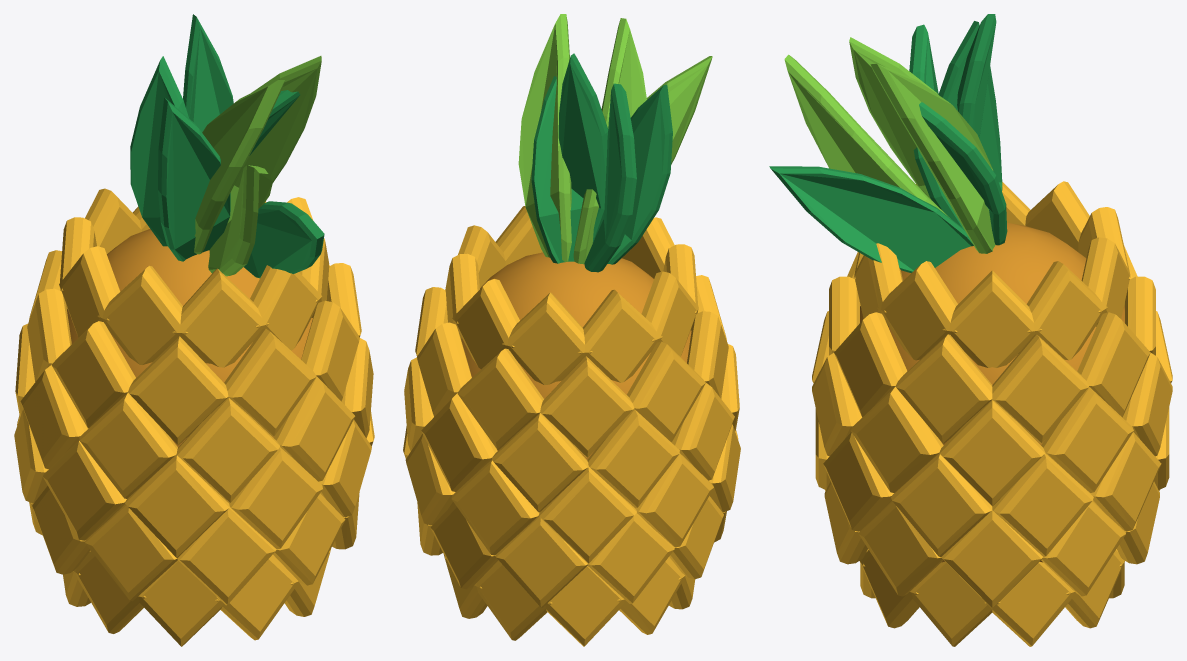
The model's file is pineapple.glb.
The picture shows the model from 3 angles, left to right: view 1: azimuth 30°, elevation 25°; view 2: azimuth 150°, elevation 25°; view 3: azimuth 270°, elevation 25°; orthographic projection. The views are drawn at different scales.
Parts seen in each view (by area): view 1: pineapple-pineapple, pineapple-leaf, pineapple-leafLight, pineapple-groove; view 2: pineapple-pineapple, pineapple-leaf, pineapple-leafLight, pineapple-groove; view 3: pineapple-pineapple, pineapple-leaf, pineapple-leafLight, pineapple-groove.
Boxes of the visible parts, x1,y1,x2,y2 form: pineapple-pineapple: (14,188,374,646); pineapple-leaf: (130,14,324,278); pineapple-leafLight: (194,56,321,276); pineapple-groove: (67,229,312,447); pineapple-pineapple: (403,206,740,646); pineapple-leaf: (531,53,672,272); pineapple-leafLight: (518,14,712,264); pineapple-groove: (461,252,691,459); pineapple-pineapple: (812,181,1172,646); pineapple-leaf: (769,14,1007,272); pineapple-leafLight: (784,37,995,253); pineapple-groove: (860,222,1124,562).
Bounding box in the file's own units: 1.46 × 2.6 × 1.63.
